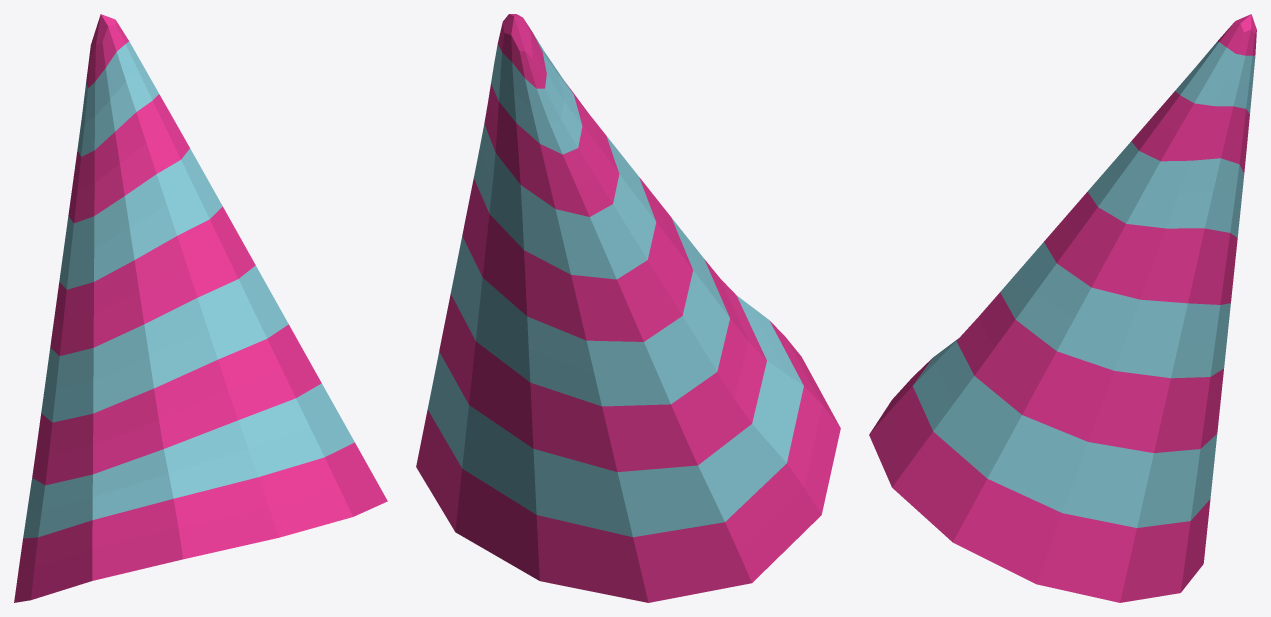
The picture shows the model from 3 angles, left to right: view 1: azimuth 30°, elevation 25°; view 2: azimuth 150°, elevation 25°; view 3: azimuth 270°, elevation 25°; orthographic projection. The views are drawn at different scales.
Parts seen in each view (by area): view 1: hat; view 2: hat; view 3: hat.
Part boxes in pixels (x1=…): hat: x1=14, y1=14, x2=387, y2=602; hat: x1=416, y1=14, x2=840, y2=602; hat: x1=869, y1=14, x2=1256, y2=602.
Bounding box in the file's own units: 0.4159 × 0.6074 × 0.3835.
